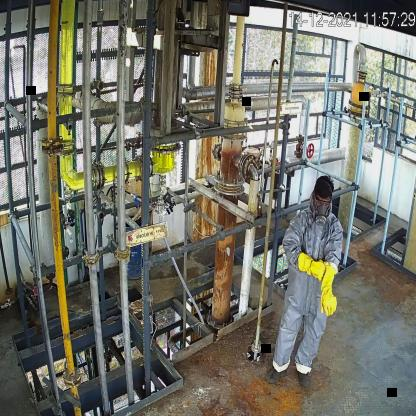goggles: (312, 196, 330, 207)
mask: (312, 204, 328, 226)
